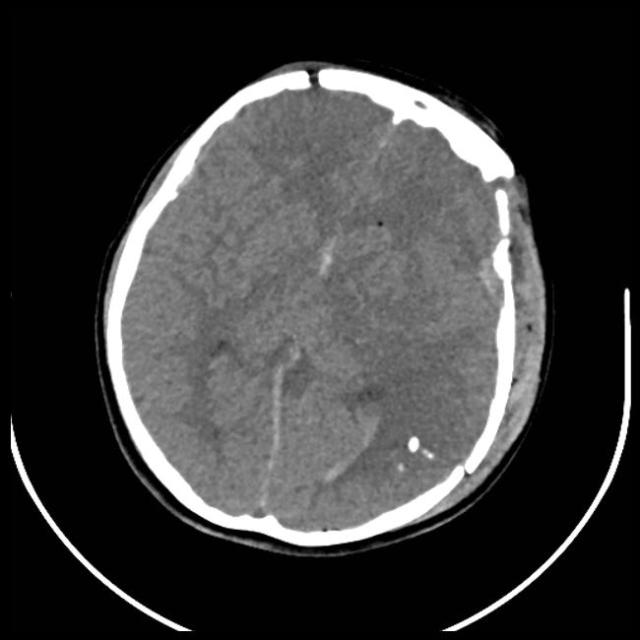lesion: (98, 61, 550, 547)
